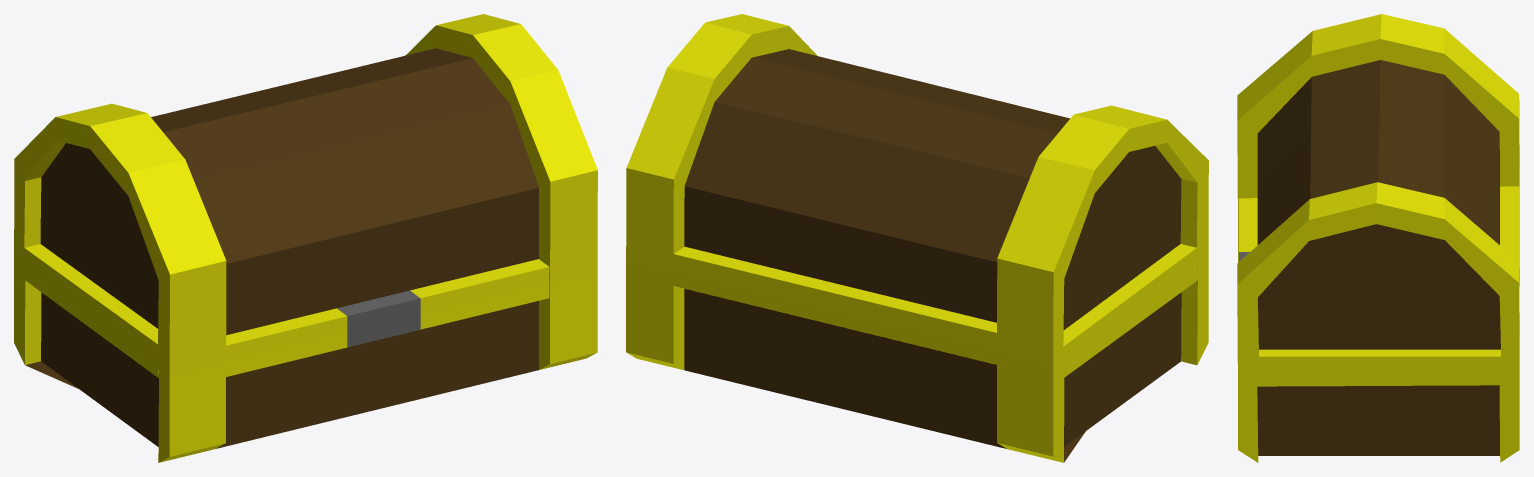
Rendered from chest.fbx.
3 views of the same model, side by side, from view 1: azimuth 30°, elevation 25°; view 2: azimuth 150°, elevation 25°; view 3: azimuth 270°, elevation 25° (orthographic). The views are drawn at different scales.
Visible parts, largest first — view 1: Cube.002, Cube.001; view 2: Cube.002, Cube.001; view 3: Cube.002, Cube.001.
Part boxes in pixels (box(x1,y1,x2,y2)): Cube.002: box(14, 14, 597, 377); Cube.001: box(14, 251, 597, 462); Cube.002: box(626, 14, 1208, 377); Cube.001: box(626, 249, 1208, 462); Cube.002: box(1237, 14, 1519, 386); Cube.001: box(1238, 199, 1519, 462).
Size of the model in its own units: 219 by 140 by 138.
